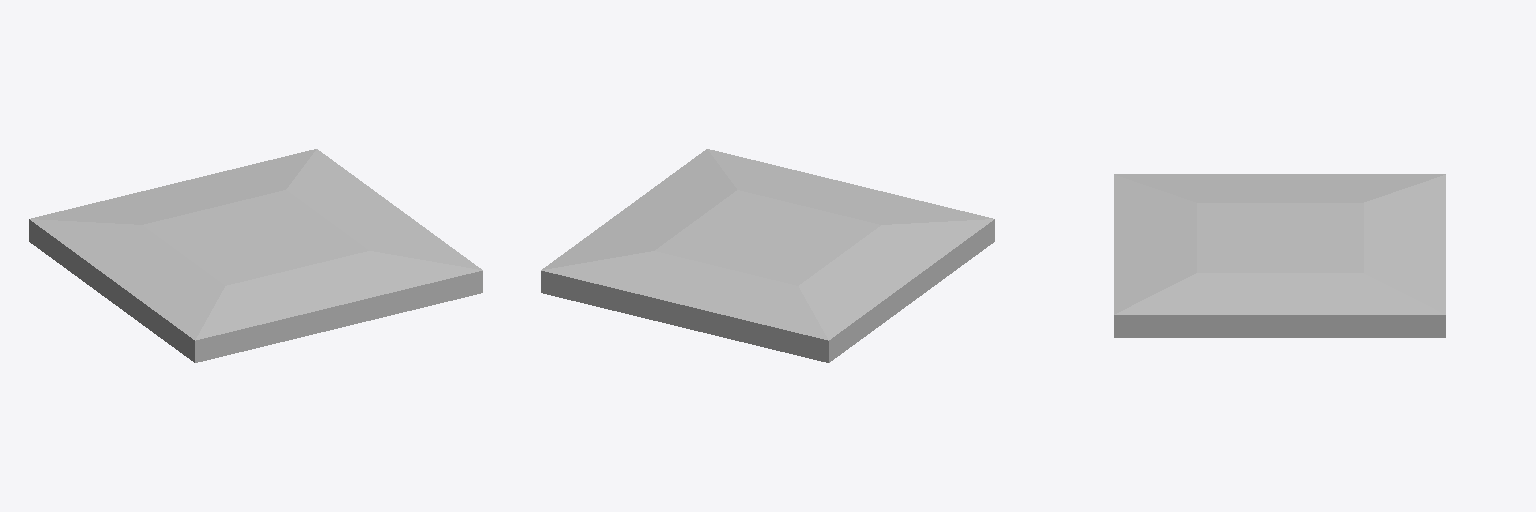
Rendered from 3DPlayerBoard.obj.
The picture shows the model from 3 angles: view 1: azimuth 30°, elevation 25°; view 2: azimuth 150°, elevation 25°; view 3: azimuth 270°, elevation 25°; orthographic projection.
Visible parts, largest first — view 1: Cube; view 2: Cube; view 3: Cube.
Part boxes in pixels (x1,y1,x2,y2): Cube: (29, 149, 482, 362); Cube: (541, 149, 994, 362); Cube: (1114, 174, 1445, 337).
Size of the model in its own units: 20 by 2.4 by 20.